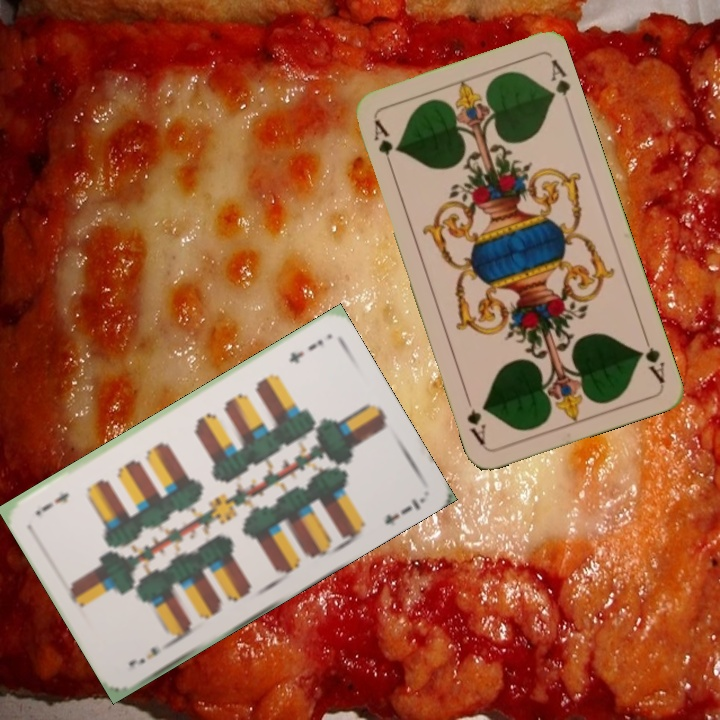E7: (124, 637, 175, 669), (284, 335, 326, 366)
GA: (634, 328, 668, 385), (369, 115, 396, 171)
